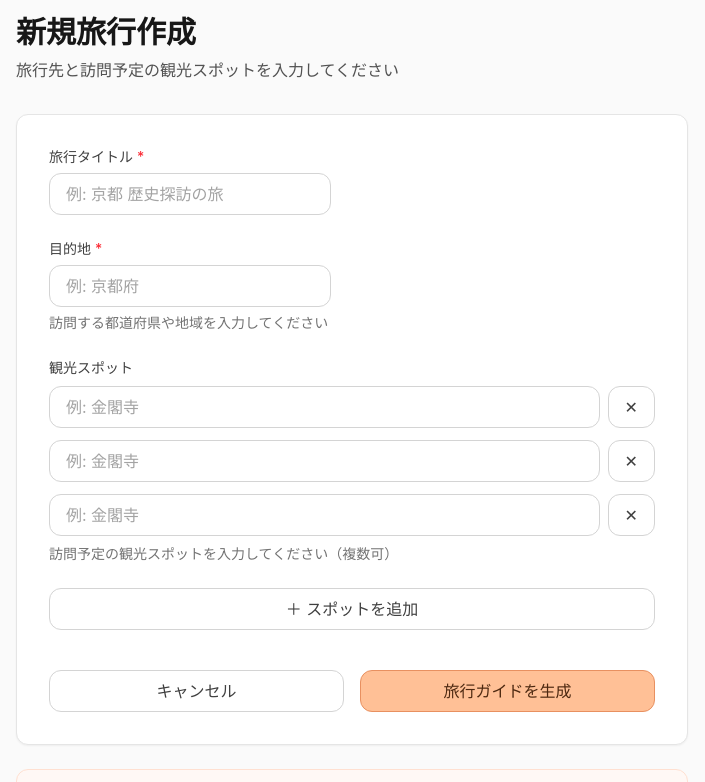
Test case: TravelNewPage › バリデーション › タイトルが空の場合はエラーツールチップが表示される
The image size is (705, 782).
Type "京都府" into the field with placeholder "例: 京都府" at x=190, y=286, box [49,265,331,307]
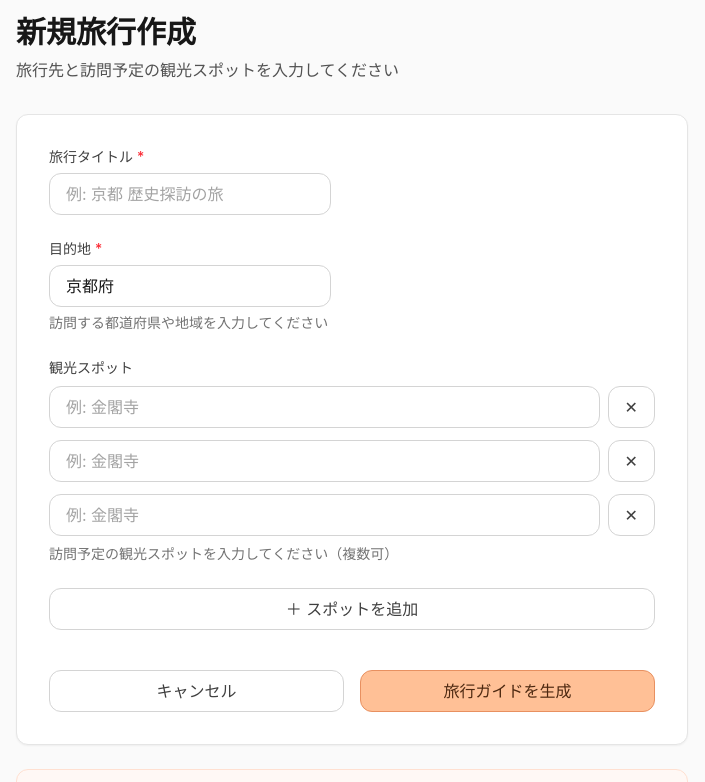
Click the button "旅行ガイドを生成" at x=508, y=691, box [360,670,655,712]
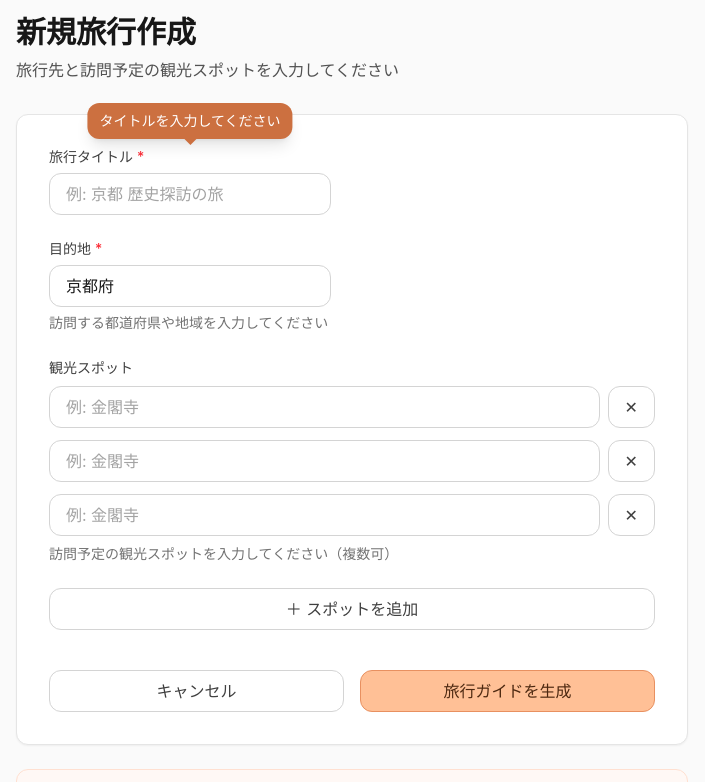
Check: the tooltip "タイトルを入力してください" is shown, box [87,103,293,139]
